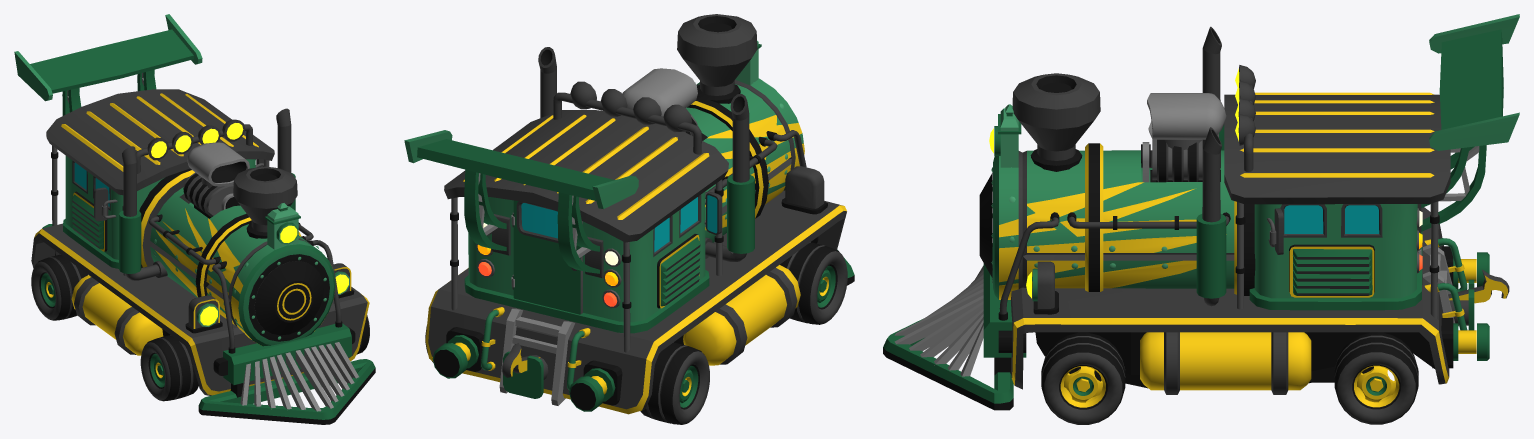
The model's file is SVehicle013.fbx.
3 renders of one model, left to right at view 1: azimuth 30°, elevation 25°; view 2: azimuth 150°, elevation 25°; view 3: azimuth 270°, elevation 25°, orthographic. The views are drawn at different scales.
Parts seen in each view (by area): view 1: SVehicle013, SV013_FR, SV013_BR; view 2: SVehicle013, SV013_BR, SV013_FR; view 3: SVehicle013, SV013_BL, SV013_FL.
Part boxes in pixels (x1=…): SVehicle013: x1=14, y1=14, x2=375, y2=424; SV013_FR: x1=140, y1=335, x2=198, y2=401; SV013_BR: x1=31, y1=254, x2=87, y2=320; SVehicle013: x1=404, y1=14, x2=854, y2=414; SV013_BR: x1=640, y1=342, x2=709, y2=424; SV013_FR: x1=780, y1=242, x2=847, y2=324; SVehicle013: x1=883, y1=14, x2=1519, y2=410; SV013_BL: x1=1334, y1=332, x2=1418, y2=424; SV013_FL: x1=1041, y1=332, x2=1125, y2=424.
Size of the model in its own units: 286 by 290 by 560.
Materials: 1 (1 with a texture image).
